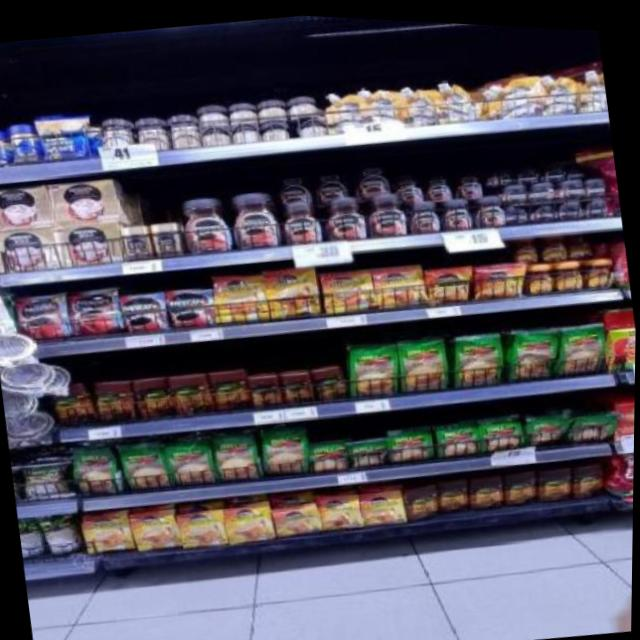Coffee: (228, 185, 281, 249), (180, 190, 232, 254), (211, 267, 271, 322), (264, 262, 323, 317), (68, 283, 126, 337), (15, 290, 69, 341), (322, 264, 374, 311), (372, 259, 426, 304), (118, 288, 169, 333), (165, 284, 217, 328), (470, 255, 525, 296), (83, 509, 134, 553), (224, 497, 275, 541), (322, 192, 368, 239), (132, 506, 181, 550), (178, 505, 229, 547), (364, 187, 407, 234), (280, 197, 322, 242), (360, 484, 408, 523), (318, 488, 364, 528), (272, 500, 320, 534), (350, 156, 392, 194), (427, 260, 469, 298), (312, 160, 350, 197), (277, 164, 311, 201), (441, 192, 474, 229), (120, 222, 152, 260), (409, 195, 441, 232), (474, 188, 504, 224), (153, 219, 182, 255), (424, 166, 454, 197), (586, 250, 613, 284), (526, 258, 553, 291), (512, 229, 540, 260), (555, 253, 583, 284), (539, 227, 566, 257), (568, 223, 595, 253), (397, 170, 424, 198), (457, 164, 484, 192), (531, 194, 556, 217), (584, 191, 610, 213), (558, 192, 584, 214), (487, 161, 513, 181), (527, 175, 553, 195), (506, 198, 527, 220), (559, 172, 584, 190), (501, 178, 525, 196), (587, 170, 610, 188), (518, 159, 539, 178), (543, 157, 564, 176), (568, 155, 588, 172)
